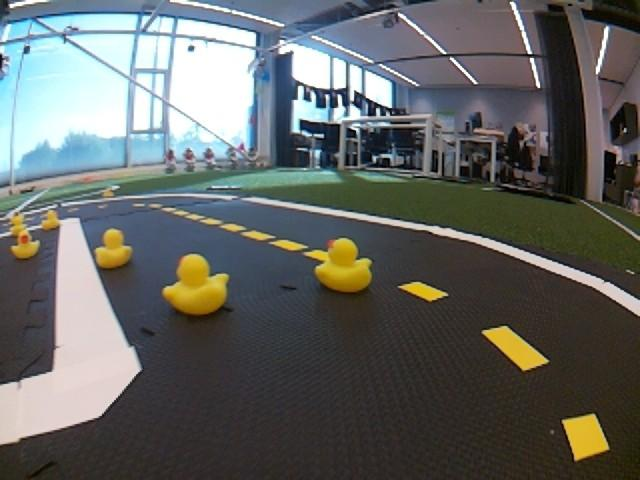Duckies: (161, 254, 230, 316), (314, 240, 372, 292), (94, 228, 133, 270), (10, 230, 40, 259), (39, 210, 59, 229), (10, 223, 27, 237), (11, 212, 23, 225), (103, 188, 114, 196)
